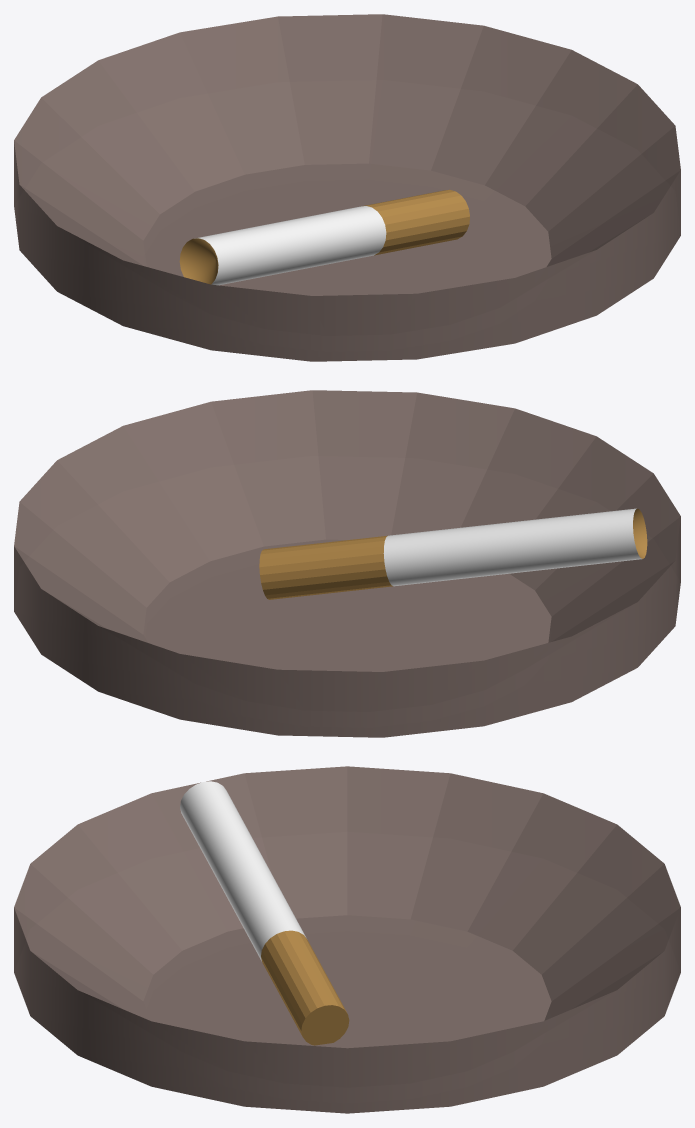
The model's file is Ashtray.fbx.
The picture shows the model from 3 angles, top to bottom: view 1: azimuth 30°, elevation 25°; view 2: azimuth 150°, elevation 25°; view 3: azimuth 270°, elevation 25°; orthographic projection.
Parts seen in each view (by area): view 1: pCylinder1, pCylinder2; view 2: pCylinder1, pCylinder2; view 3: pCylinder1, pCylinder2.
Boxes of the visible parts, x1=… form: pCylinder1: x1=14, y1=14, x2=680, y2=361; pCylinder2: x1=179, y1=189, x2=469, y2=285; pCylinder1: x1=14, y1=390, x2=680, y2=737; pCylinder2: x1=259, y1=508, x2=647, y2=599; pCylinder1: x1=14, y1=766, x2=680, y2=1113; pCylinder2: x1=180, y1=781, x2=349, y2=1045.
Size of the model in its own units: 3.27 by 0.7063 by 3.27.
